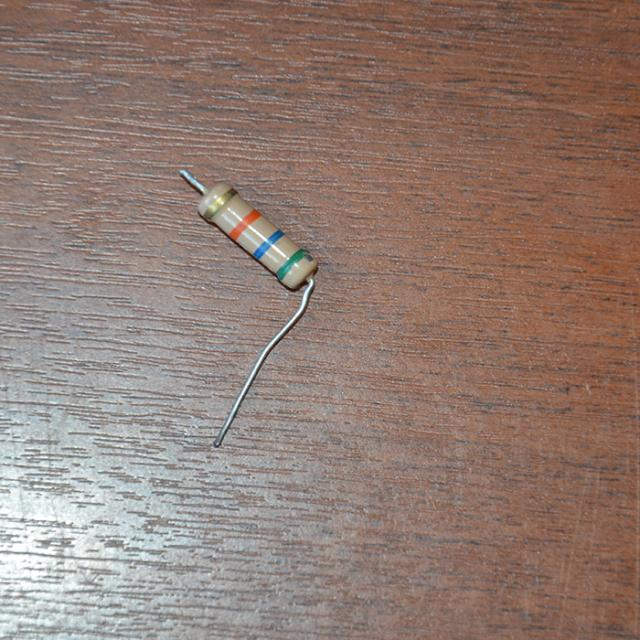blue: (253, 230, 283, 258)
gold: (204, 187, 237, 219)
green: (277, 249, 309, 279)
orange: (230, 210, 261, 239)
resistor: (181, 163, 336, 303)
